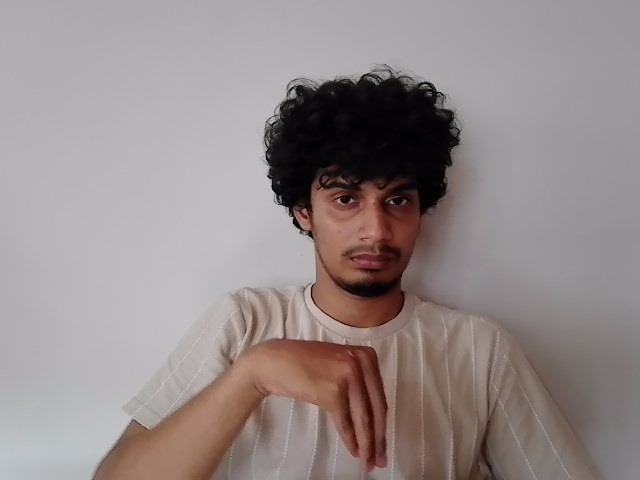learn: (247, 340, 400, 480)
